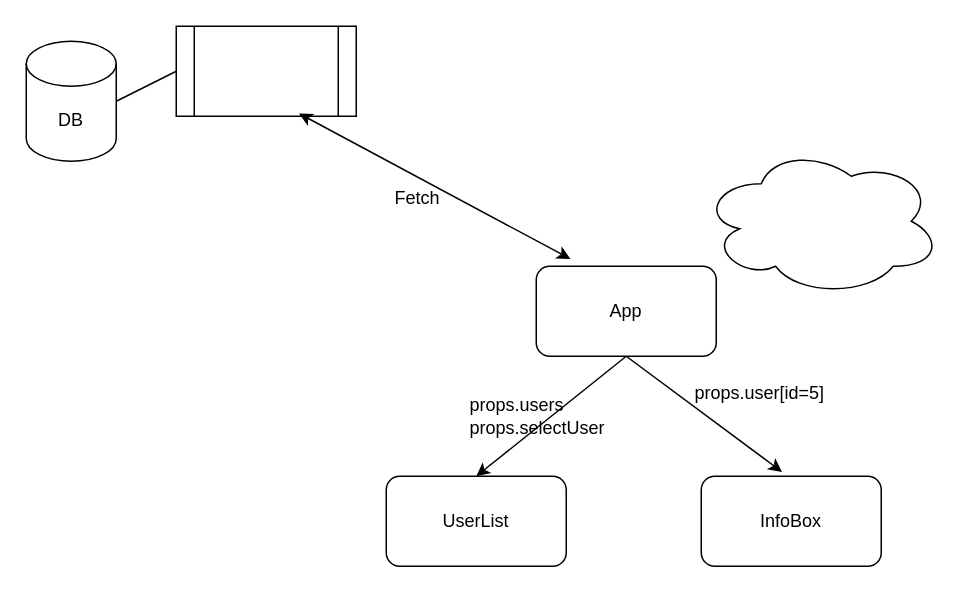
This 968x593 diagram has some shape labels left out. The shapes that lost their labels are listed below. From the top down, each one's centre as x and y in pixels, then its label:
pixel 265 70: Backend dummyjson.com
pixel 820 220: users = [ ... , ... , ...]
